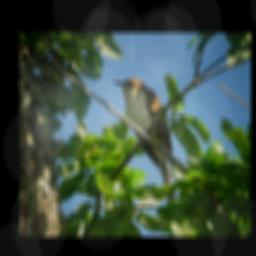Cuckoo: (110, 76, 179, 209)
